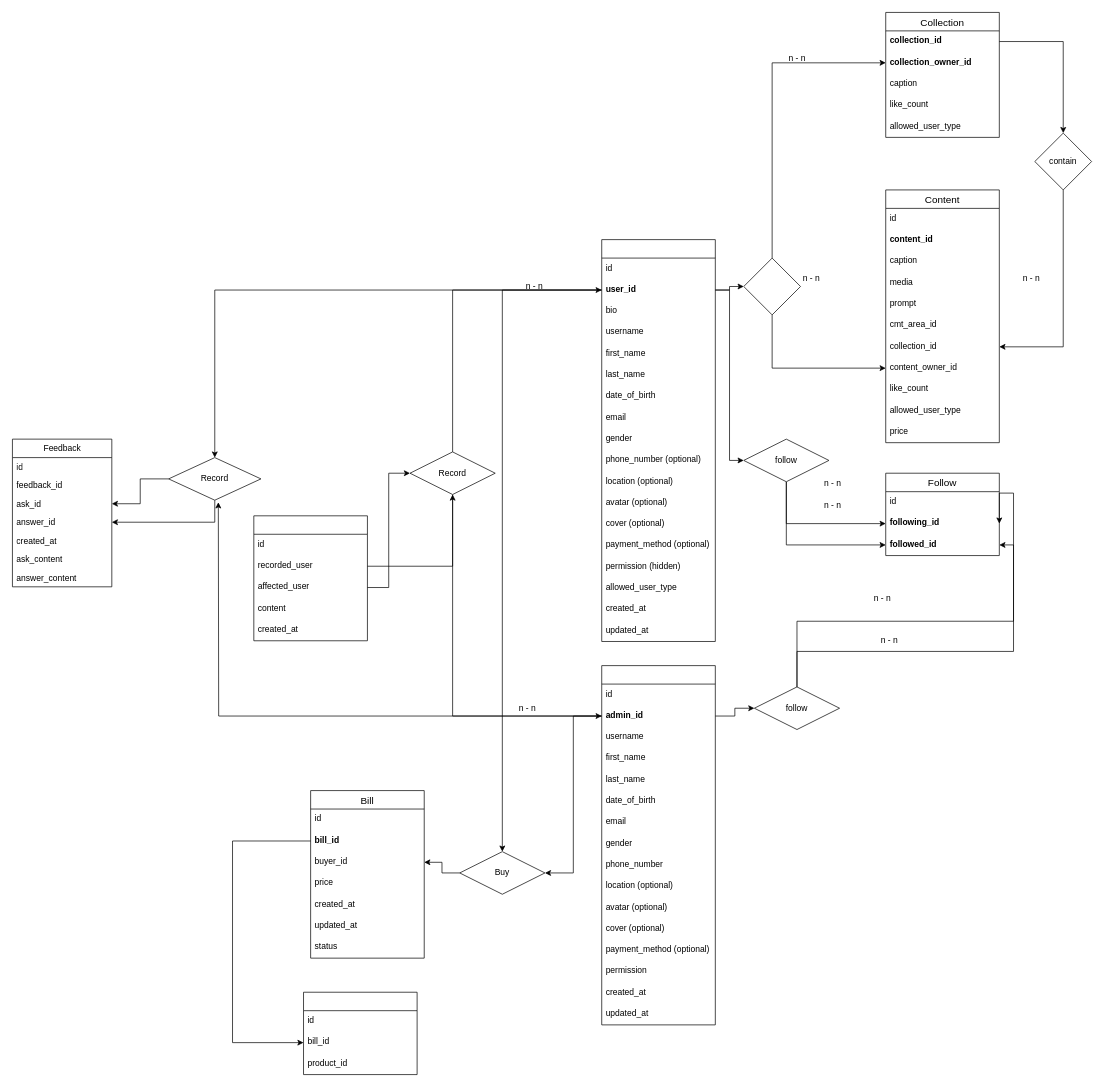
Some shapes in this 1104 by 1089 pixel diagram are drawn without their labels. The shapes that lost their labels are listed below. From the top down, each one's box as (x1, y1, x2, y2) in pixels, then its label:
(743, 257, 801, 315): own
(601, 239, 715, 641): Normal_user
(253, 515, 367, 641): Logs
(601, 665, 715, 1025): admins
(303, 992, 417, 1075): Bill info
